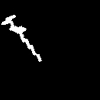double_crochet: (2, 15, 41, 61)
